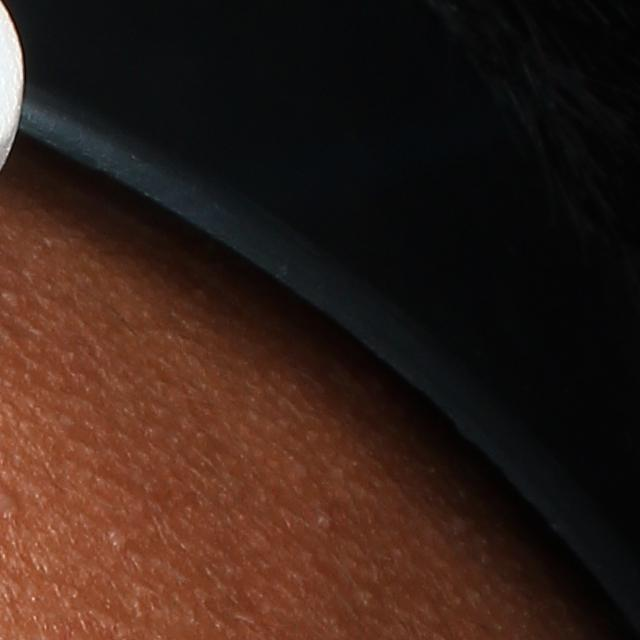comedo: (102, 519, 135, 557), (314, 501, 341, 532)
